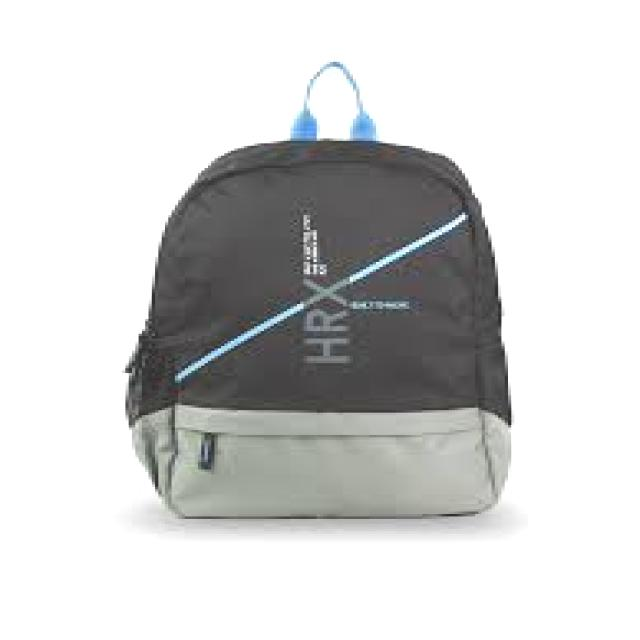backpack: (124, 60, 516, 520)
